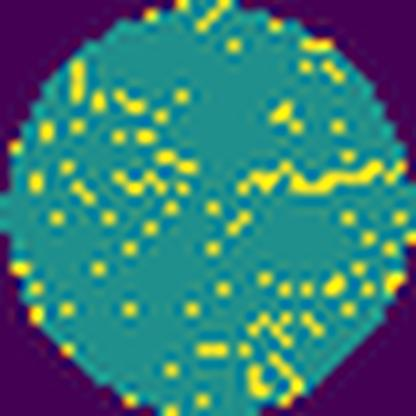Scratch: (233, 156, 389, 201)
